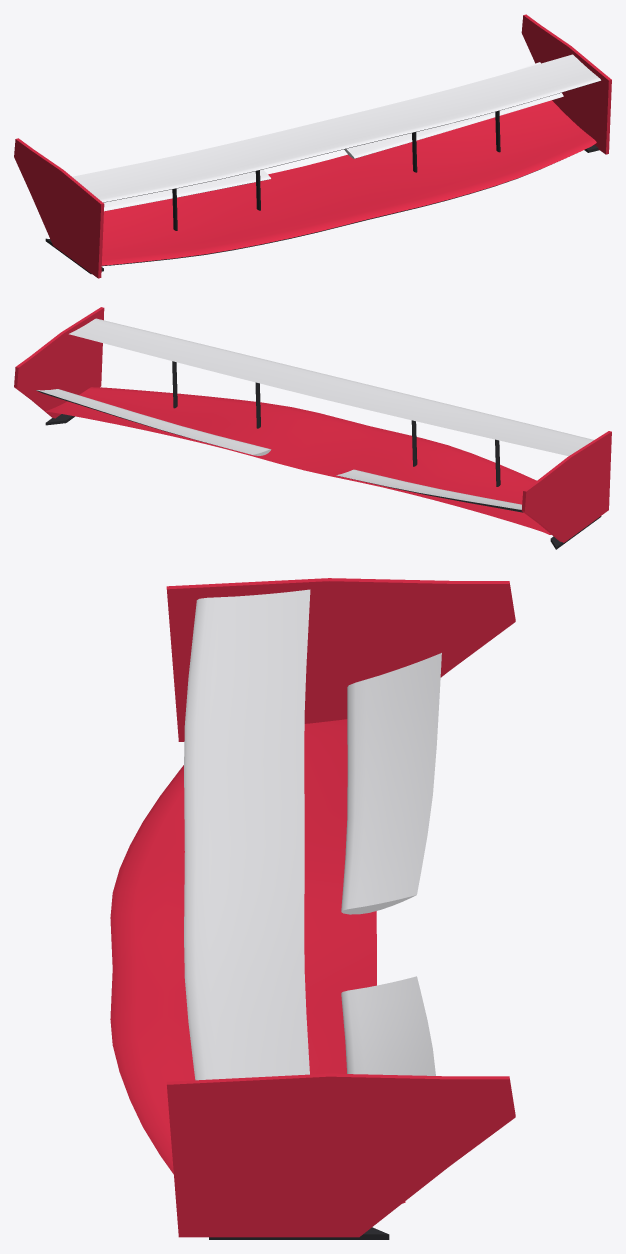
Rendered from biplane.glb.
The picture shows the model from 3 angles, top to bottom: view 1: azimuth 30°, elevation 25°; view 2: azimuth 150°, elevation 25°; view 3: azimuth 270°, elevation 25°; orthographic projection. The views are drawn at different scales.
Visible parts, largest first — view 1: FrontWing_biplane; view 2: FrontWing_biplane; view 3: FrontWing_biplane.
Part boxes in pixels (bbox=[...]): FrontWing_biplane: bbox=[14, 14, 611, 278]; FrontWing_biplane: bbox=[14, 307, 611, 549]; FrontWing_biplane: bbox=[110, 578, 515, 1239].
Size of the model in its own units: 1.96 by 0.3 by 0.6737.
